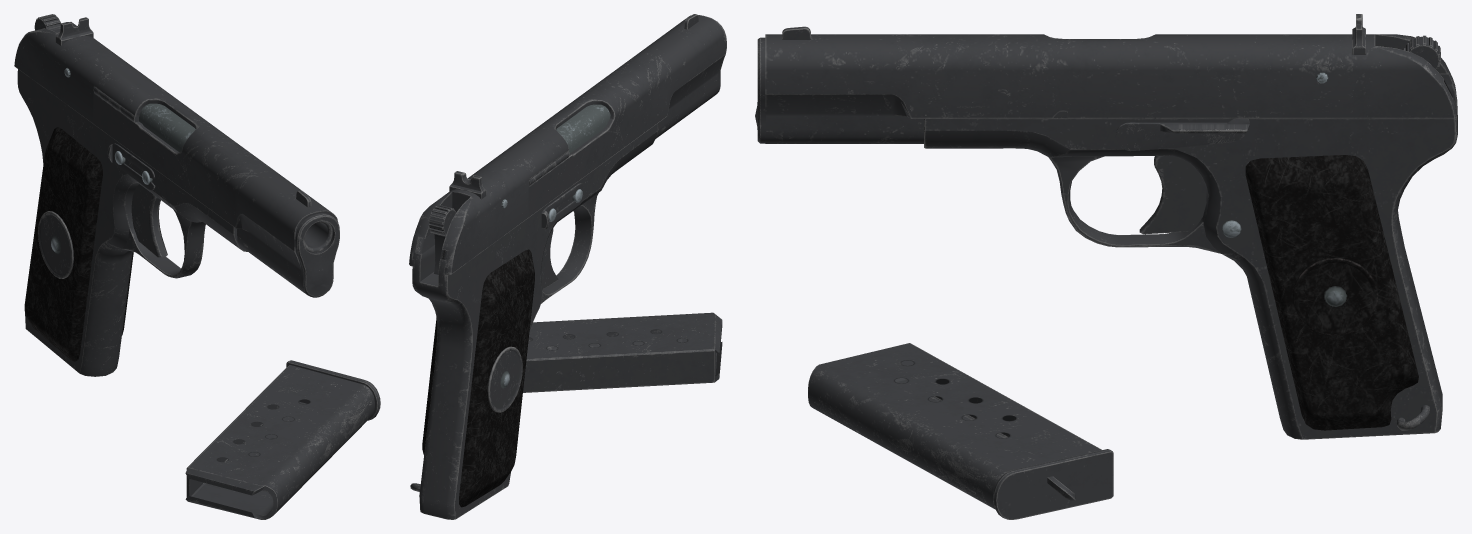
Rendered from tt_pistol.fbx.
3 renders of one model, left to right at view 1: azimuth 30°, elevation 25°; view 2: azimuth 150°, elevation 25°; view 3: azimuth 270°, elevation 25°, orthographic. The views are drawn at different scales.
Visible parts, largest first — view 1: tt_base, tt_slide, tt_mag; view 2: tt_base, tt_slide, tt_mag, tt_bolt; view 3: tt_base, tt_slide, tt_mag.
Boxes of the visible parts, <box> form: tt_base: <box>17,69,332,376</box>; tt_slide: <box>14,17,339,297</box>; tt_mag: <box>185,360,380,519</box>; tt_base: <box>410,123,658,519</box>; tt_slide: <box>409,14,726,275</box>; tt_mag: <box>523,312,722,392</box>; tt_bolt: <box>429,205,455,274</box>; tt_base: <box>924,71,1457,439</box>; tt_slide: <box>755,14,1456,143</box>; tt_mag: <box>808,343,1113,519</box>.
Size of the model in its own units: 16.93 by 23.23 by 36.22.
